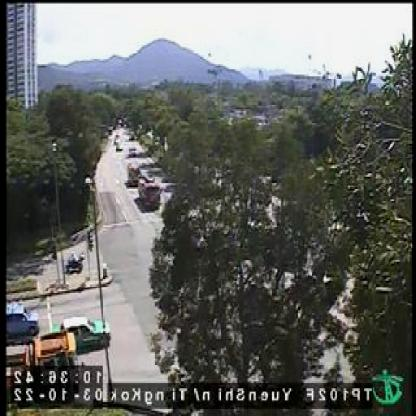Car: (55, 316, 109, 349), (9, 301, 39, 334)
Truck: (8, 335, 82, 382), (131, 161, 161, 205)
